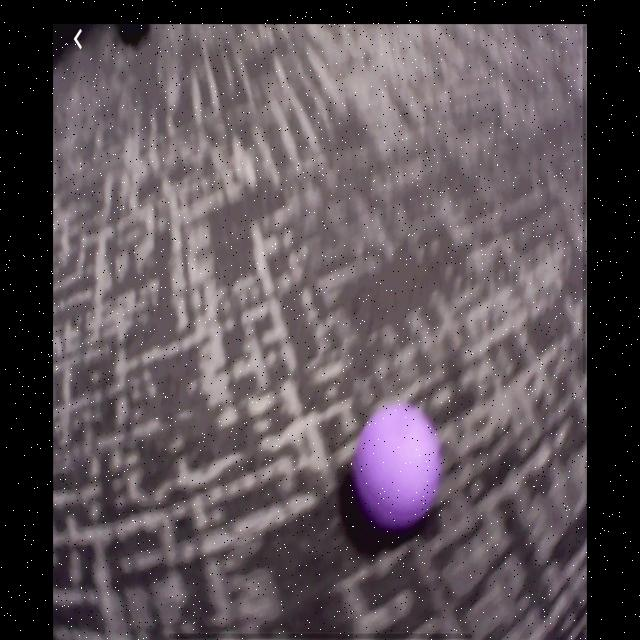ball: (352, 404, 438, 527)
